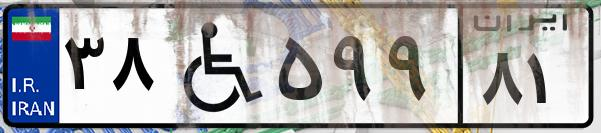1: (525, 38, 570, 115)
3: (57, 26, 110, 100)
5: (270, 28, 330, 110)
8: (475, 38, 525, 113), (110, 28, 158, 98)
9: (385, 28, 445, 110), (330, 28, 385, 110)
ژ (معلولین و جانبازان): (158, 12, 270, 120)
